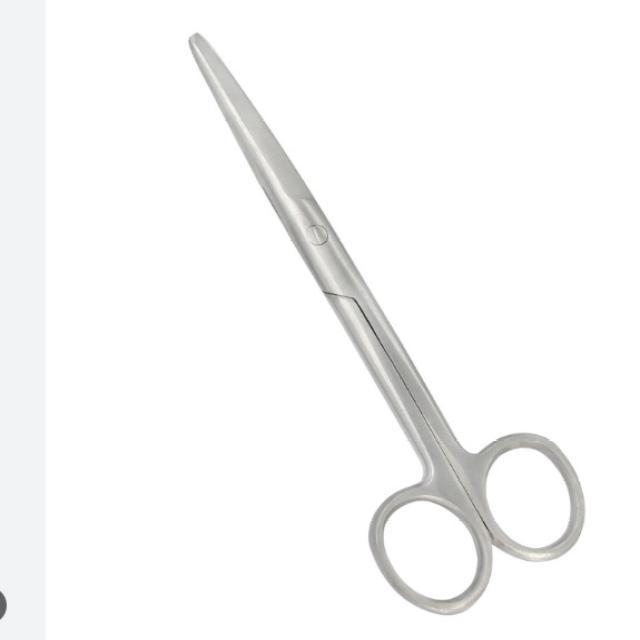Straight Mayo: (178, 26, 593, 618)
